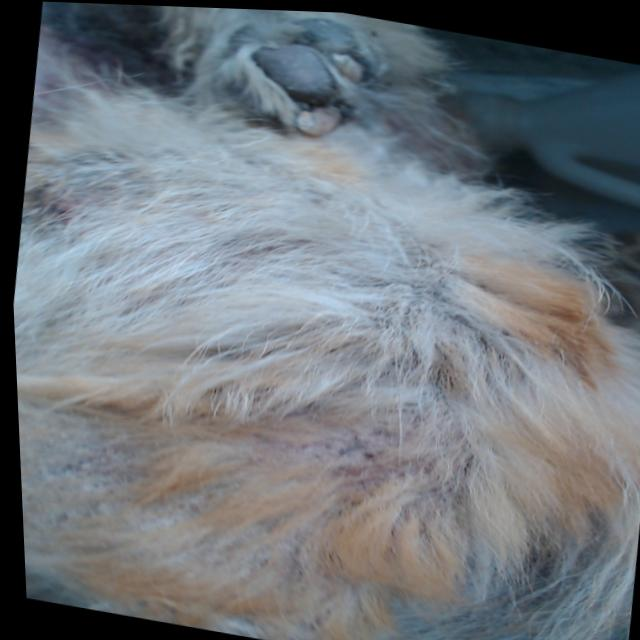demodicosis: (280, 391, 435, 504)
